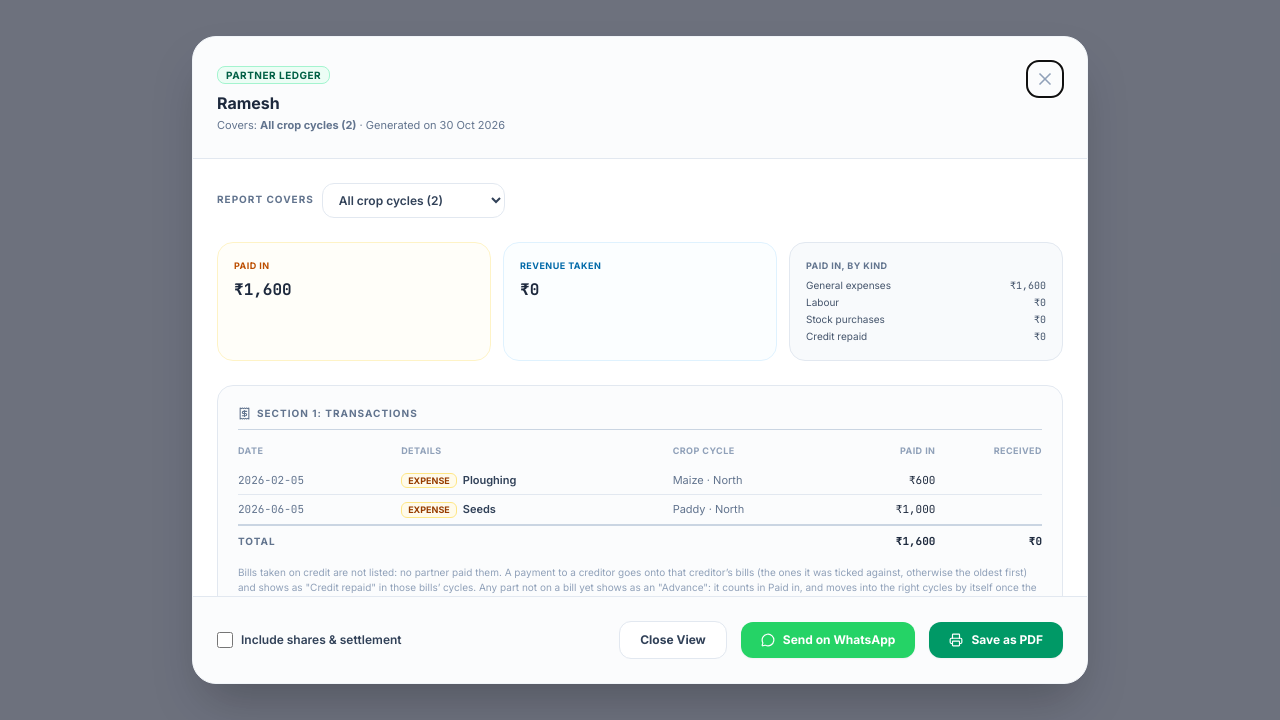
Test: PartnerReportModal › narrows to one crop cycle
Select "Paddy · North — Active" in the dropdown at (413, 200), box x1=322 y1=182 x2=505 y2=218
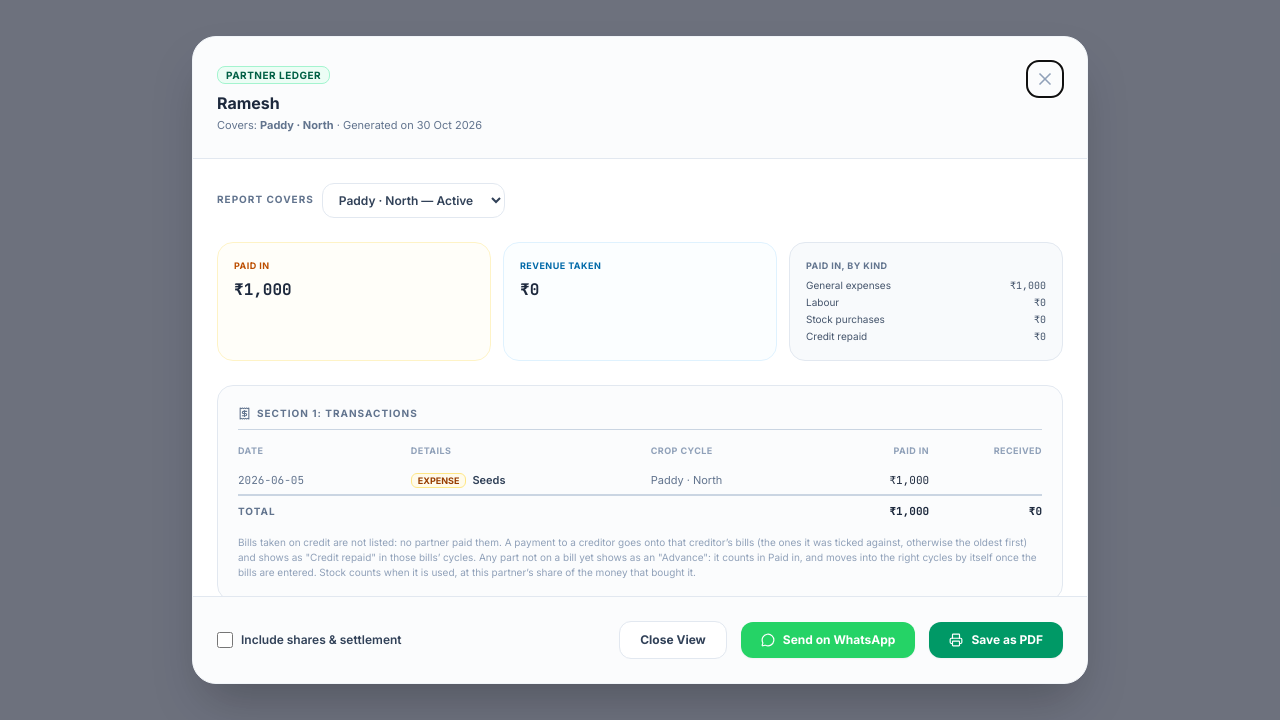
Expected: the text "Seeds" is shown, x1=472 y1=472 x2=506 y2=486
Result: the text "Ploughing" is gone
